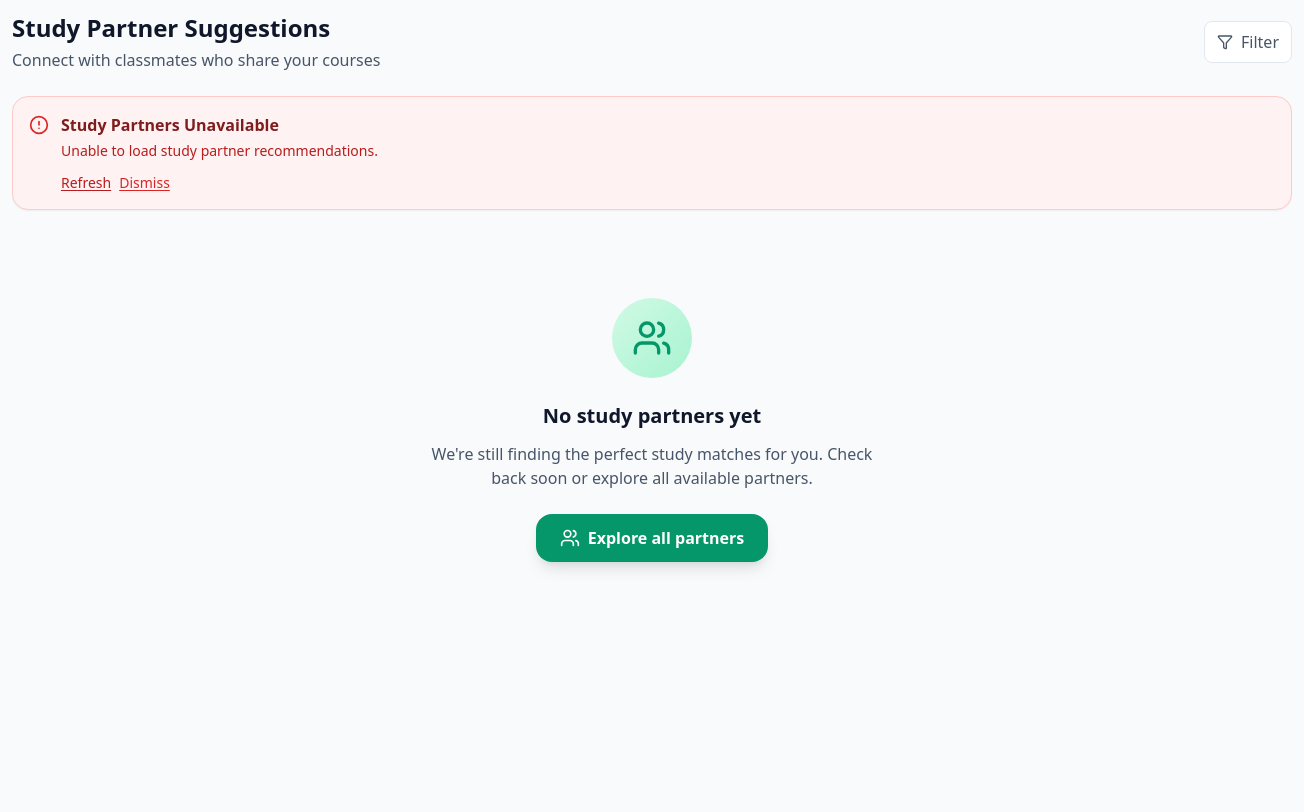
Test: BuddySearch › dismisses error when clicking dismiss
Expected: the heading "Study Partners Unavailable" is shown, [61,114,279,136]
Click the button "Dismiss".
click(145, 183)  # box [119,173,170,193]
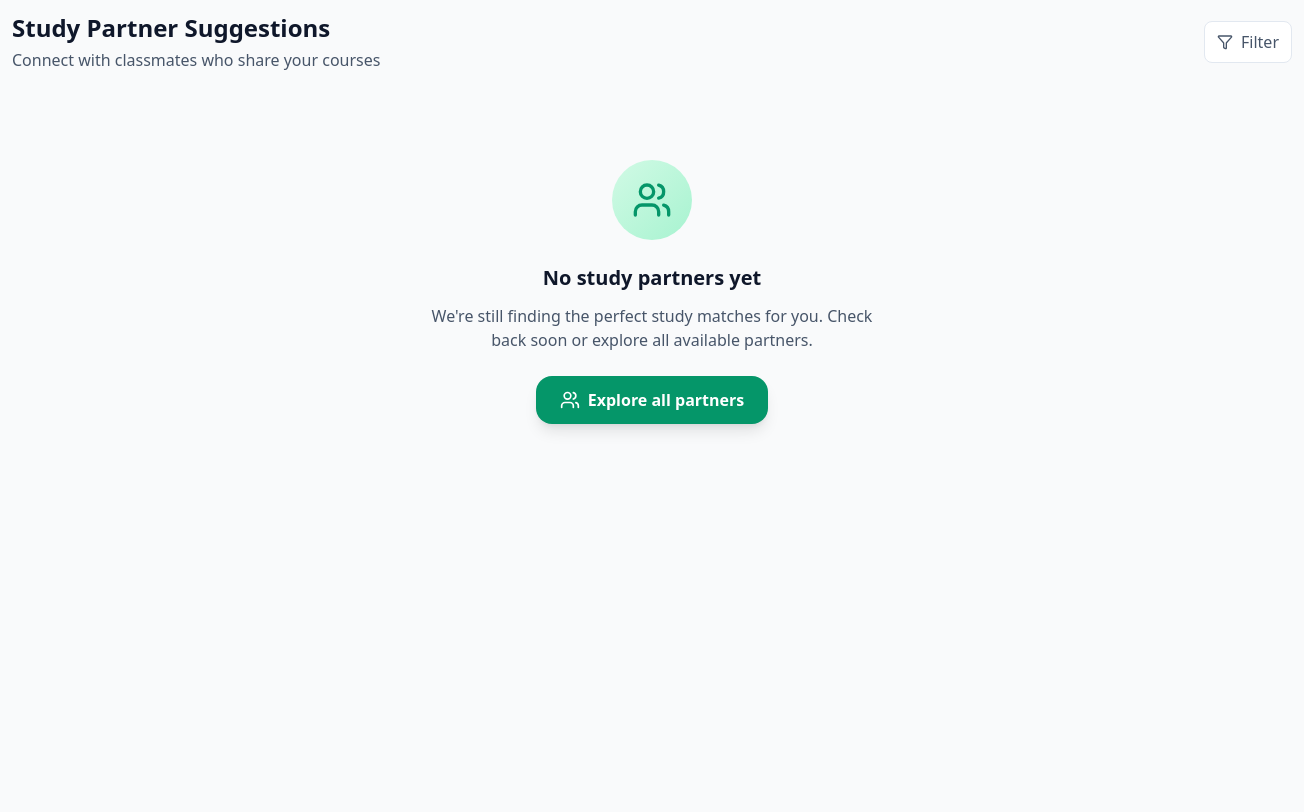
Now the heading "Study Partners Unavailable" is gone
